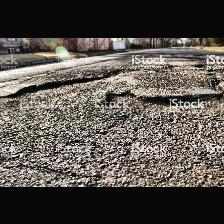pothole: (3, 74, 107, 104), (102, 89, 224, 111)
